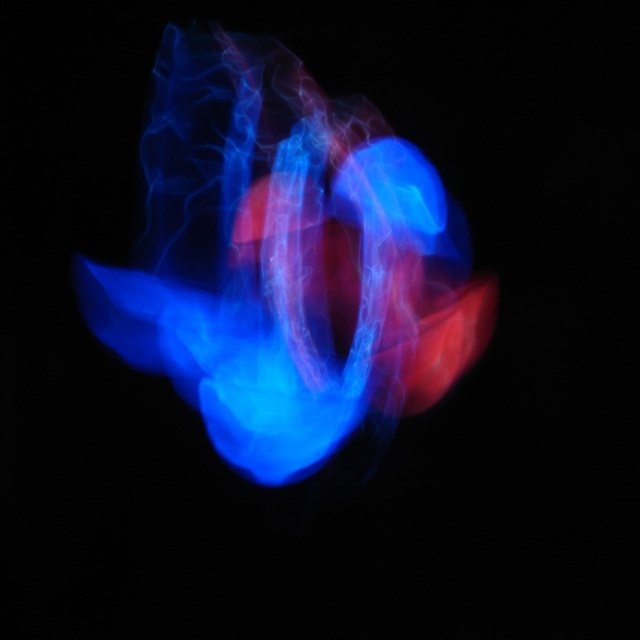Jellyfish: (63, 11, 493, 494)
